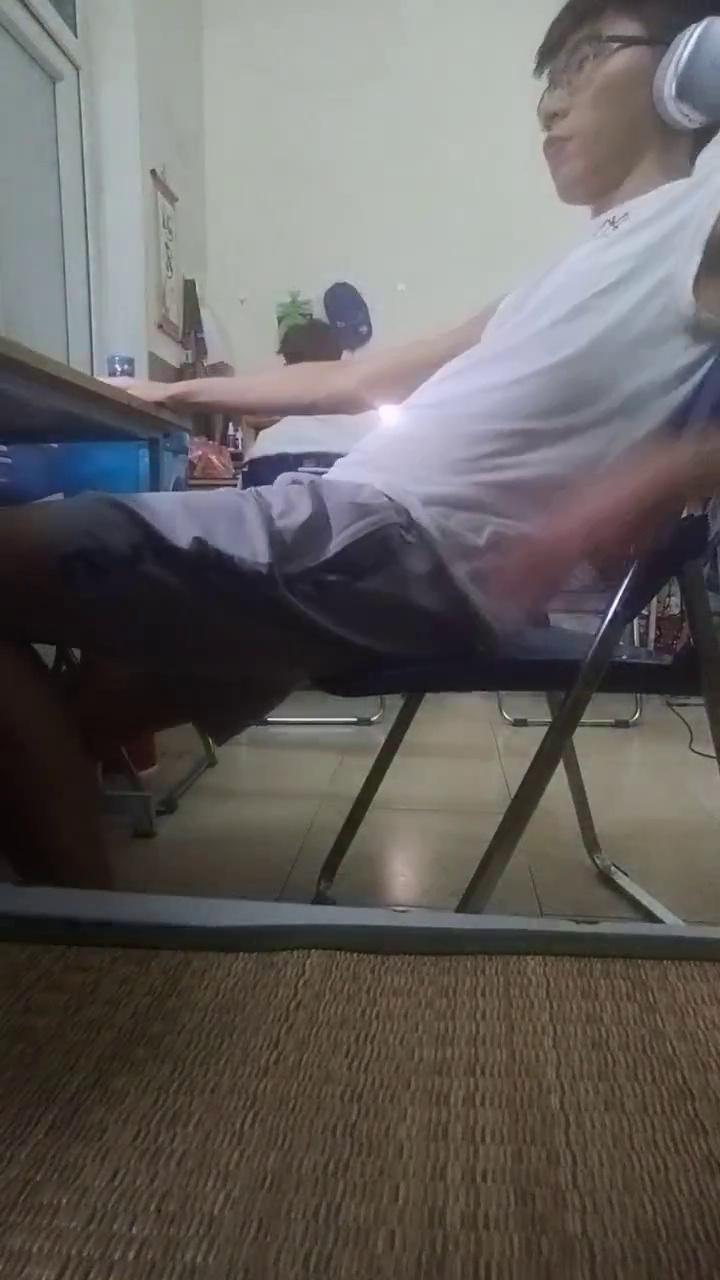BadPosture: (0, 0, 719, 887)
